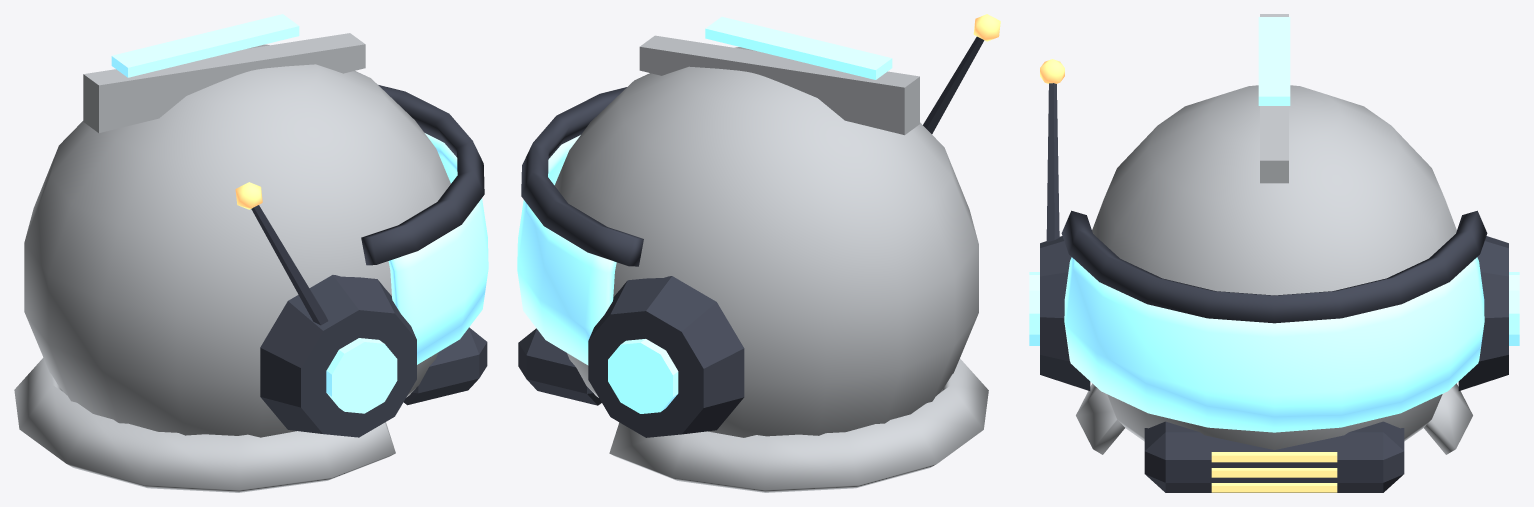
The model's file is helmet.glb.
The picture shows the model from 3 angles, left to right: view 1: azimuth 30°, elevation 25°; view 2: azimuth 150°, elevation 25°; view 3: azimuth 270°, elevation 25°; orthographic projection. The views are drawn at different scales.
Parts seen in each view (by area): view 1: Helmet; view 2: Helmet; view 3: Helmet.
Part boxes in pixels (bbox=[...]): Helmet: bbox=[14, 14, 488, 492]; Helmet: bbox=[517, 14, 1000, 492]; Helmet: bbox=[1029, 14, 1519, 492].
Bounding box in the file's own units: 1.1 × 0.9362 × 1.17.
Materials: 2 (1 with a texture image).
